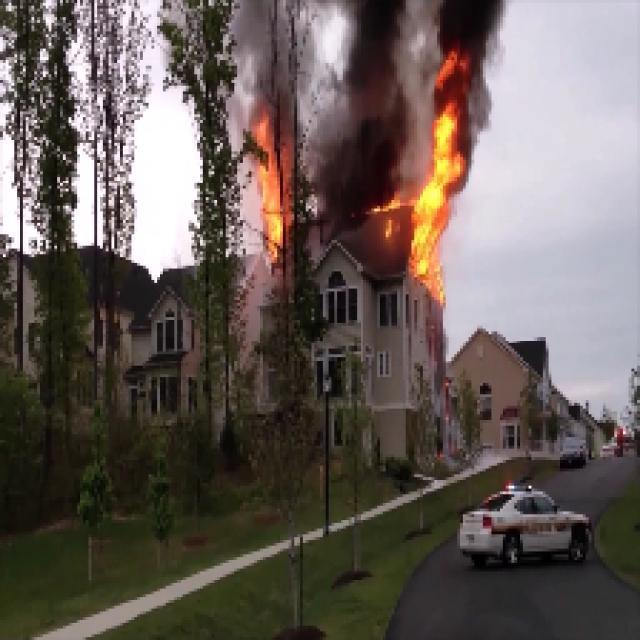Fire: (414, 90, 458, 280)
Smoke: (316, 10, 401, 212), (433, 3, 492, 79)
